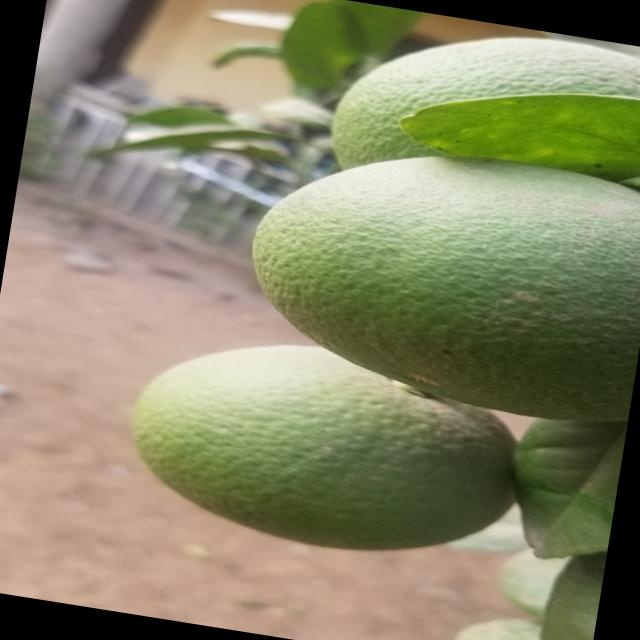agrume: (236, 133, 640, 429), (118, 319, 522, 571), (326, 7, 640, 208)
